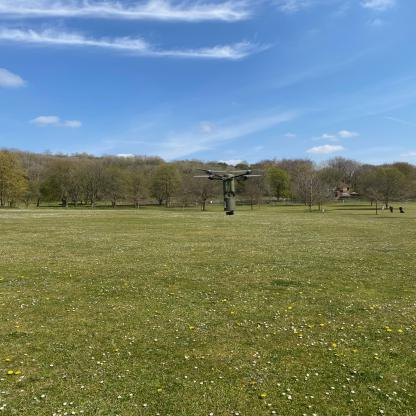UAS: (192, 167, 262, 216)
